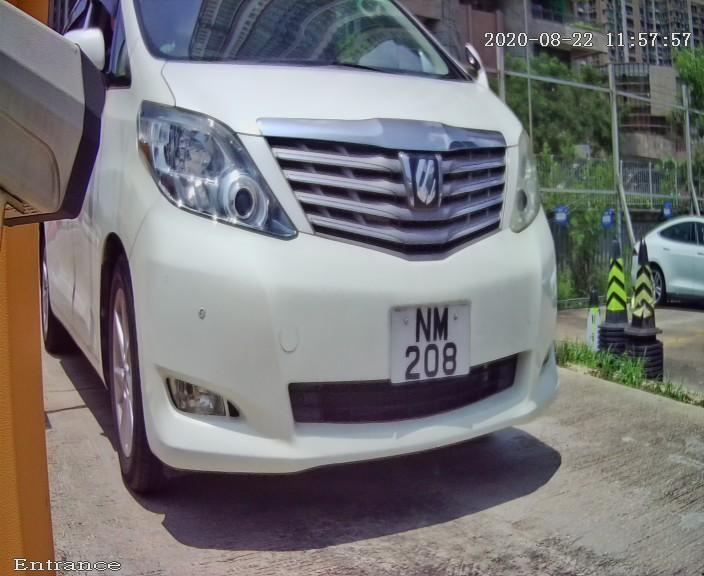Car: (26, 1, 604, 525)
License Plate: (378, 286, 481, 397)
